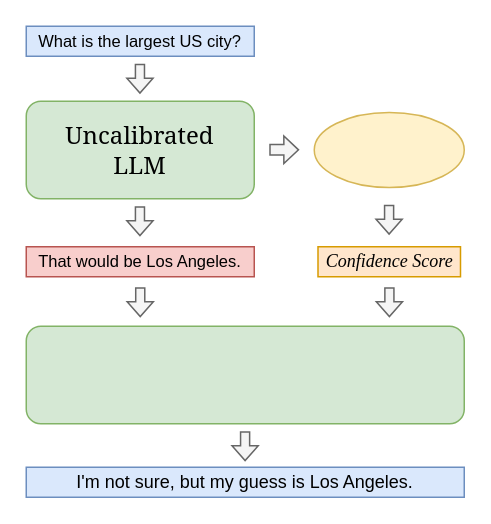
The diagram is 491 pixels wide and 524 high, and some of its shapes have lost their labels. The centre of each missing label's shape, as x and y in pixels:
Calibration Module: point 388,149
Controllable Generation LLM with uncertainty: point 244,374
